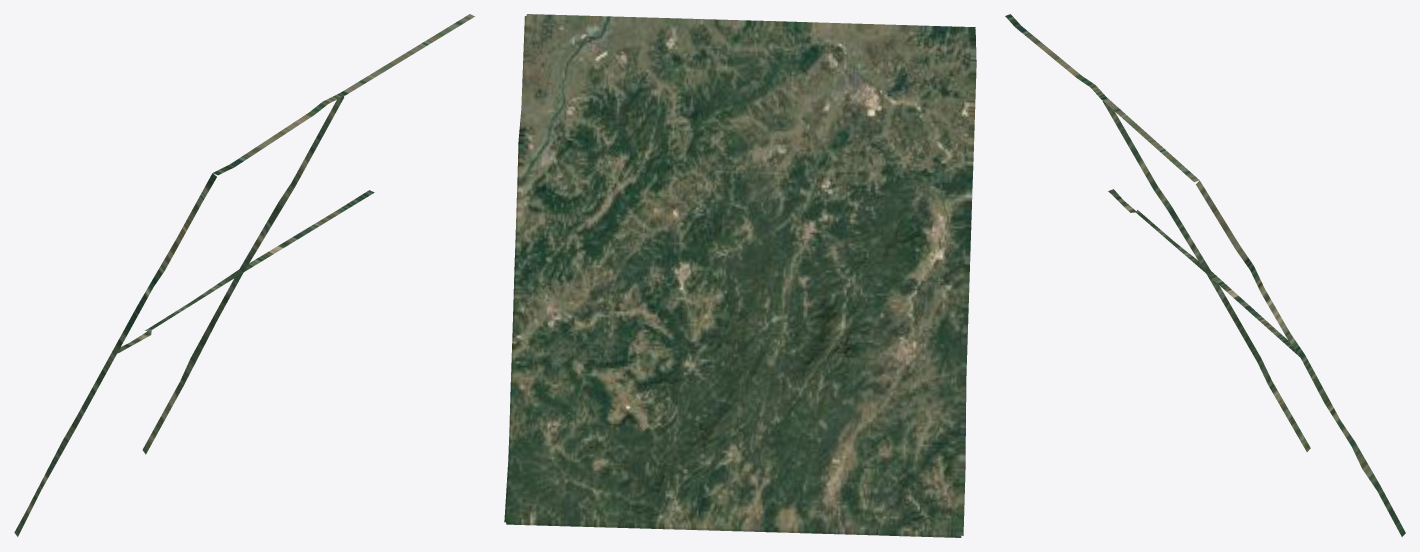
The picture shows the model from 3 angles, left to right: view 1: azimuth 30°, elevation 25°; view 2: azimuth 150°, elevation 25°; view 3: azimuth 270°, elevation 25°; orthographic projection. The views are drawn at different scales.
Size of the model in its own units: 158579 by 140743 by 128073.
Materials: 1 (1 with a texture image).
